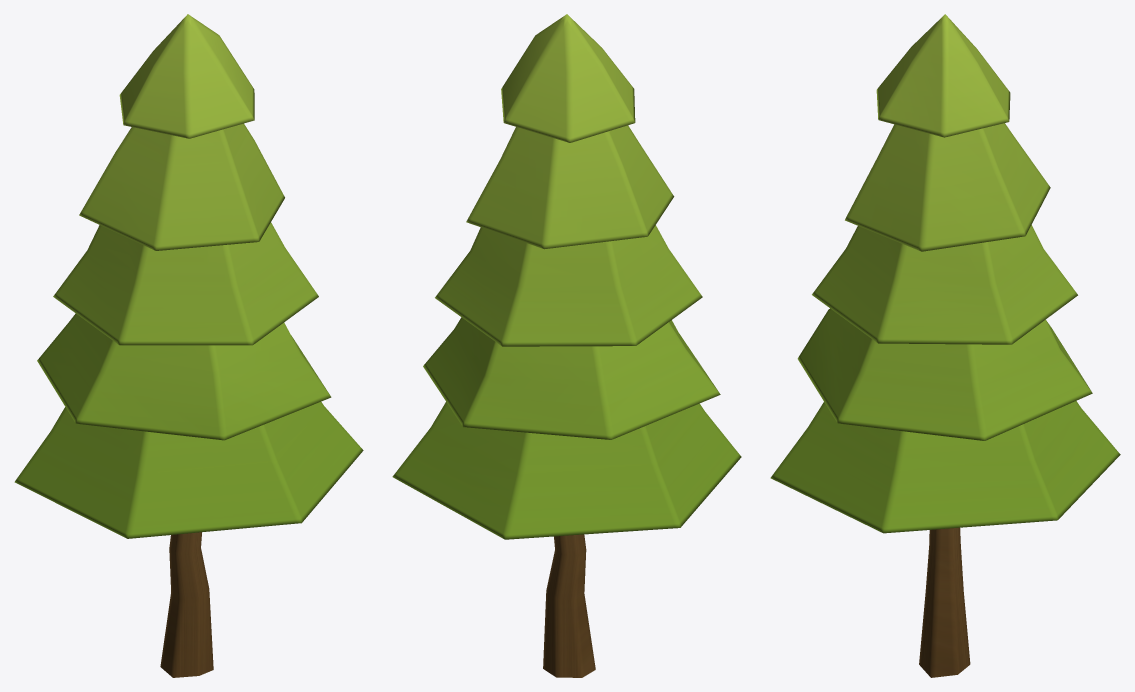
Rendered from Tree.fbx.
The picture shows the model from 3 angles, left to right: view 1: azimuth 30°, elevation 25°; view 2: azimuth 150°, elevation 25°; view 3: azimuth 270°, elevation 25°; orthographic projection.
Parts seen in each view (by area): view 1: Tree; view 2: Tree; view 3: Tree.
Boxes of the visible parts, x1,y1,x2,y2 form: Tree: (14, 14, 363, 677); Tree: (392, 14, 741, 677); Tree: (770, 14, 1120, 677).
Bounding box in the file's own units: 470 × 1021 × 495.
